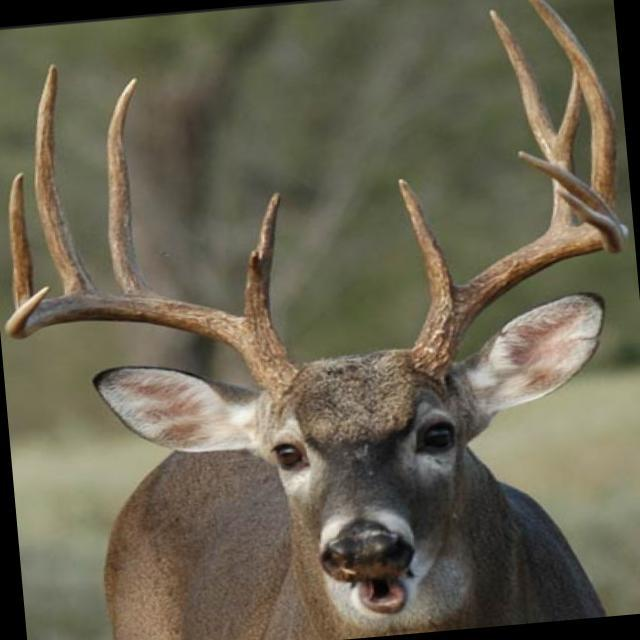L-F: (412, 187, 627, 372)
L-G1: (396, 177, 461, 310)
R-F: (4, 285, 292, 387)
R-G1: (243, 190, 280, 327)
R-G2: (106, 77, 151, 294)
R-G3: (34, 63, 99, 295)
